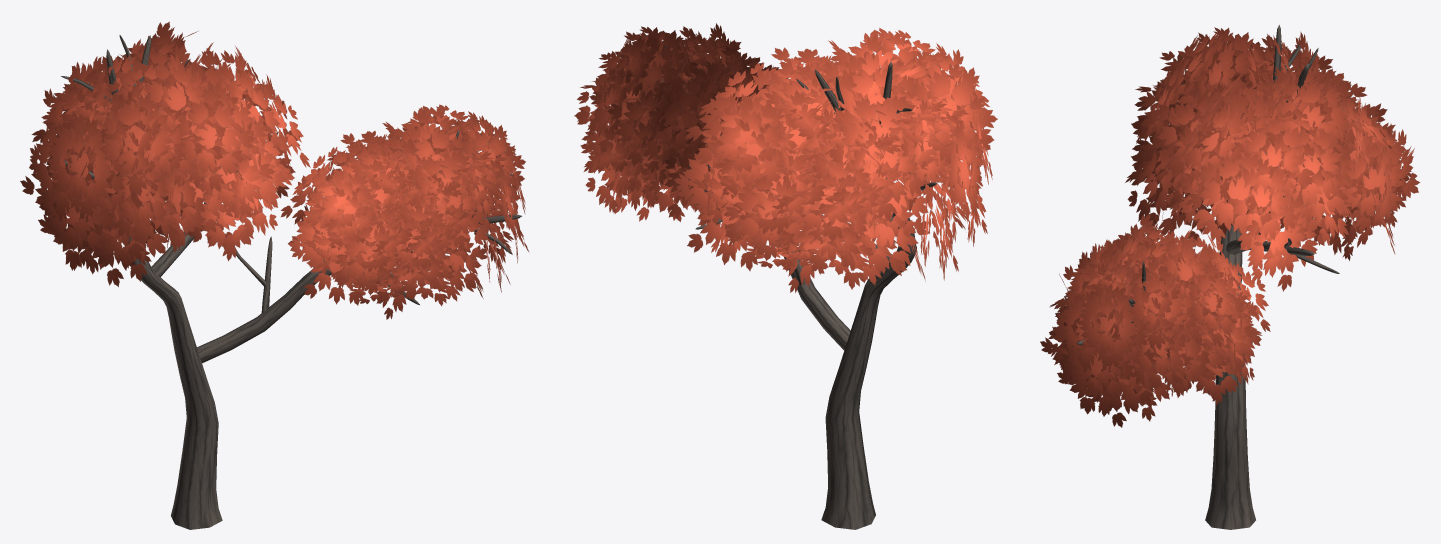
The model's file is MapleTree_1.glb.
3 renders of one model, left to right at view 1: azimuth 30°, elevation 25°; view 2: azimuth 150°, elevation 25°; view 3: azimuth 270°, elevation 25°, orthographic. The views are drawn at different scales.
Parts seen in each view (by area): view 1: MapleTree_1; view 2: MapleTree_1; view 3: MapleTree_1.
Part boxes in pixels (<box>): MapleTree_1: <box>20,21,528,529</box>; MapleTree_1: <box>574,23,997,529</box>; MapleTree_1: <box>1040,25,1420,529</box>.
Bounding box in the file's own units: 6.23 × 6.64 × 4.9.
2 materials, 2 textured.
